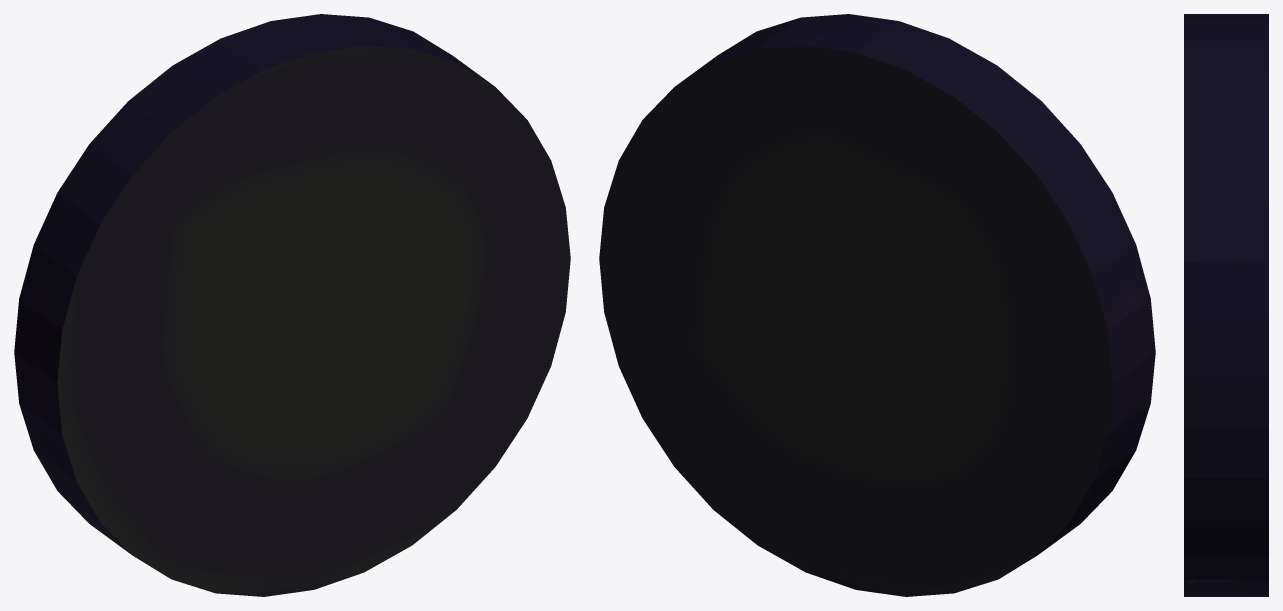
Rendered from TruckWheel.obj.
The picture shows the model from 3 angles, left to right: view 1: azimuth 30°, elevation 25°; view 2: azimuth 150°, elevation 25°; view 3: azimuth 270°, elevation 25°; orthographic projection.
Visible parts, largest first — view 1: 円柱; view 2: 円柱; view 3: 円柱.
Part boxes in pixels (x1,y1,x2,y2): 円柱: (14,14,570,596); 円柱: (599,14,1155,596); 円柱: (1184,14,1268,596).
Size of the model in its own units: 2 by 2 by 0.2908.
1 material, 1 textured.
